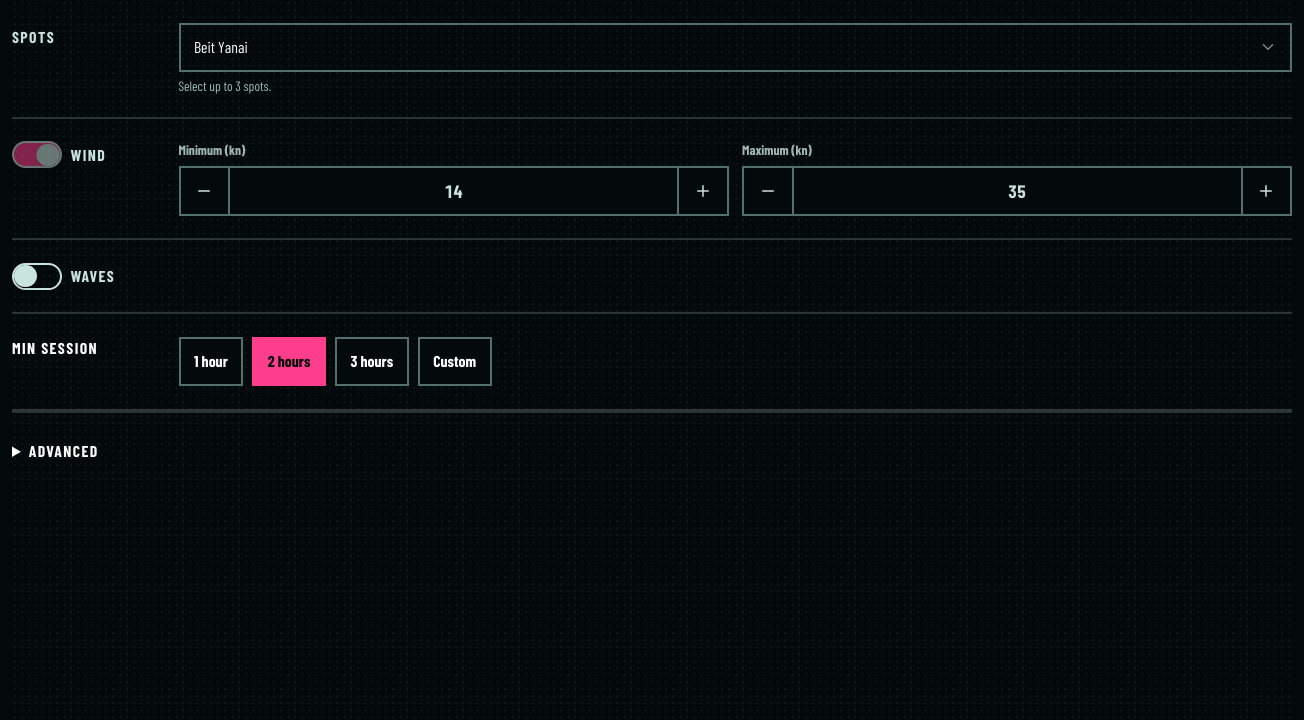
Test: ConfigForm › offers quick duration presets and restores non-preset values in Custom
This screenshot has width=1304, height=720.
Click the button "3 hours" at (372, 361), box [335,337,409,386]
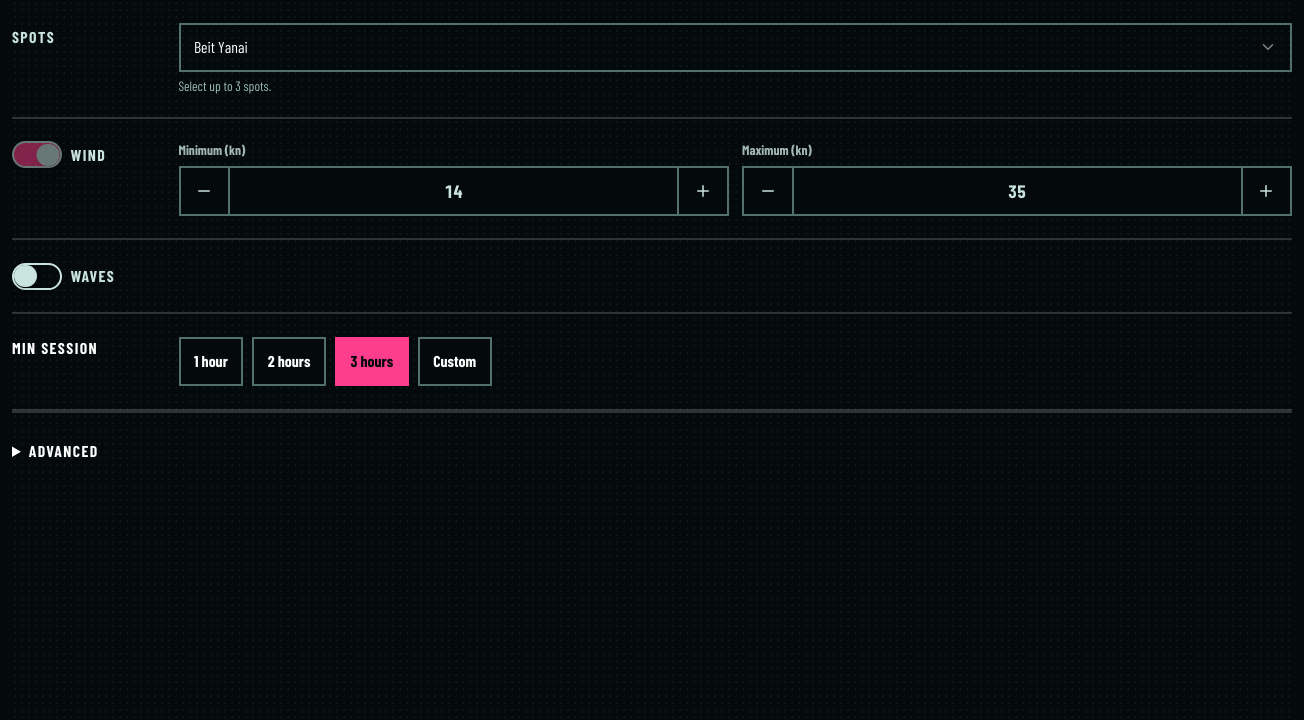
Click the button "Custom" at (455, 361), box [418,337,492,386]
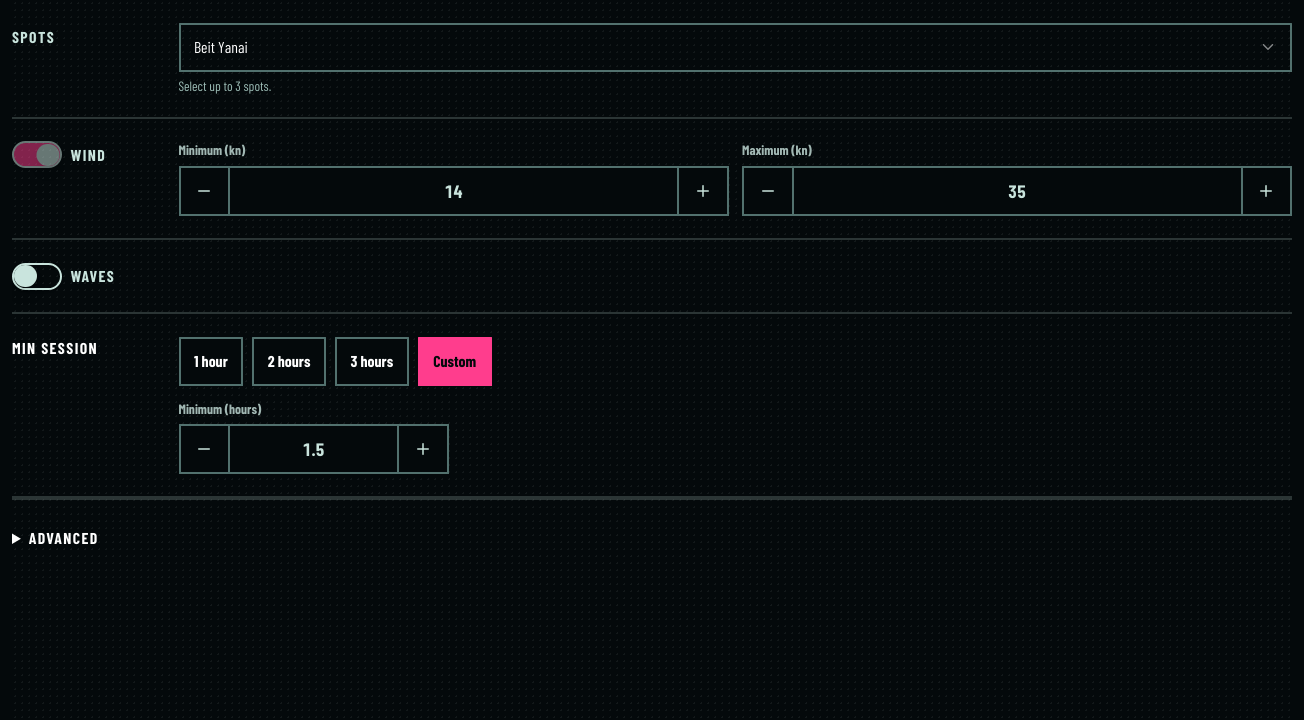
Check: the field with id "min-session" holds "1.5", box [228,424,399,474]
